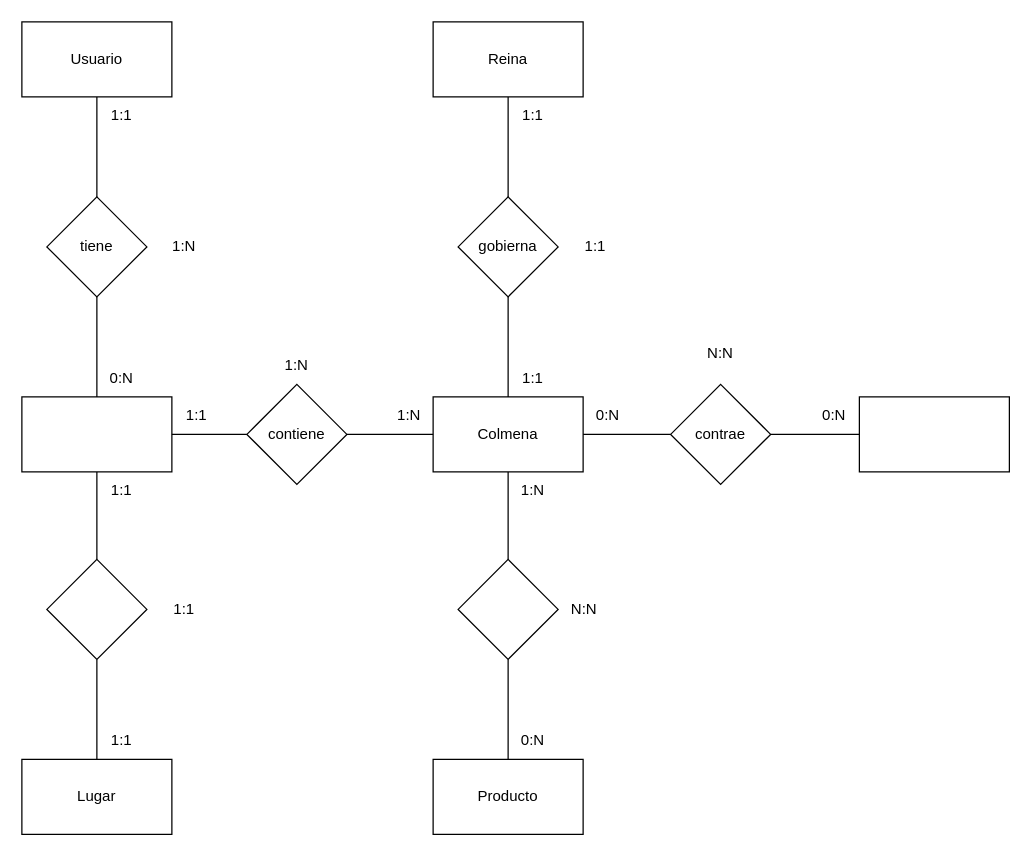
Some shapes in this 1031 by 856 pixel diagram are drawn without their labels. The shapes that lost their labels are listed below. From the top down, each one's centre as x and y in pixels, then its label:
pixel 96 434: Colmenar
pixel 933 434: Enfermedad
pixel 96 608: localiza
pixel 507 608: produce
